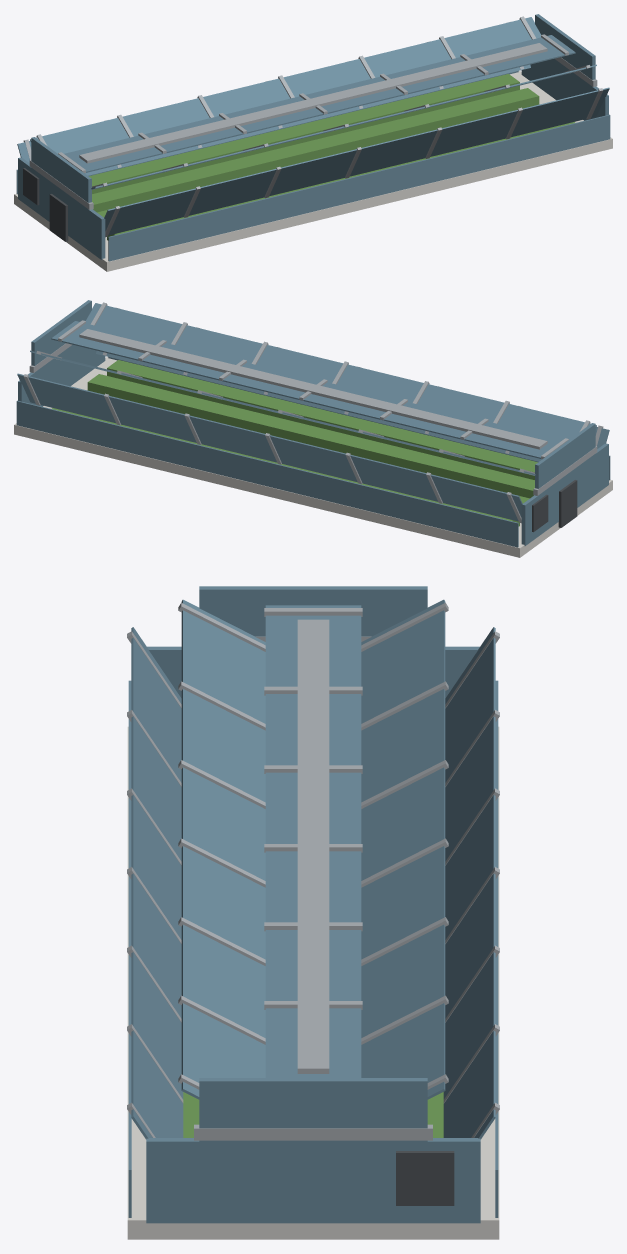
Rendered from greenhouse.glb.
3 views of the same model, one above another, from view 1: azimuth 30°, elevation 25°; view 2: azimuth 150°, elevation 25°; view 3: azimuth 270°, elevation 25° (orthographic). The views are drawn at different scales.
Visible parts, largest first — view 1: Merged_PropsGlass, Merged_CityFieldGreen, Merged_PropsMetal, gh_base, Merged_WindowFrame; view 2: Merged_PropsGlass, Merged_CityFieldGreen, Merged_PropsMetal, gh_base, Merged_WindowFrame; view 3: Merged_PropsGlass, Merged_PropsMetal, gh_base, Merged_WindowFrame, Merged_CityFieldGreen.
Part boxes in pixels (x1=…): Merged_PropsGlass: x1=16, y1=14, x2=610, y2=261; Merged_CityFieldGreen: x1=89, y1=74, x2=575, y2=240; Merged_PropsMetal: x1=23, y1=16, x2=603, y2=237; gh_base: x1=14, y1=71, x2=612, y2=271; Merged_WindowFrame: x1=23, y1=168, x2=68, y2=241; Merged_PropsGlass: x1=16, y1=300, x2=610, y2=547; Merged_CityFieldGreen: x1=51, y1=360, x2=537, y2=526; Merged_PropsMetal: x1=23, y1=302, x2=603, y2=523; gh_base: x1=14, y1=357, x2=612, y2=557; Merged_WindowFrame: x1=532, y1=480, x2=577, y2=532; Merged_PropsGlass: x1=128, y1=586, x2=498, y2=1223; Merged_PropsMetal: x1=127, y1=602, x2=499, y2=1140; gh_base: x1=127, y1=726, x2=499, y2=1239; Merged_WindowFrame: x1=396, y1=1151, x2=454, y2=1205; Merged_CityFieldGreen: x1=183, y1=1092, x2=443, y2=1137.
Size of the model in its own units: 44.46 by 6.6 by 14.05.
